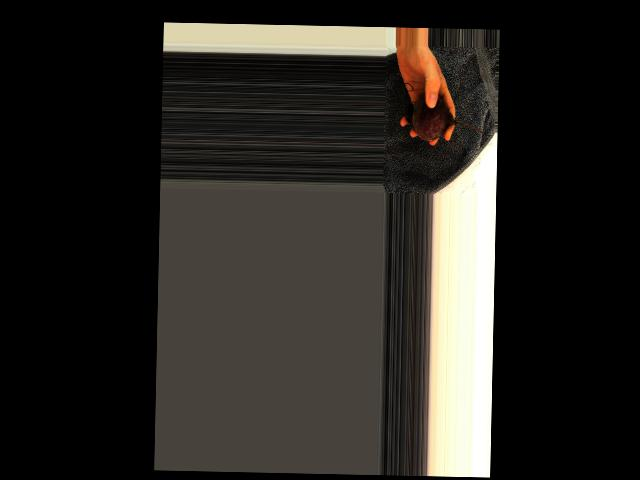beet: (406, 92, 484, 142)
